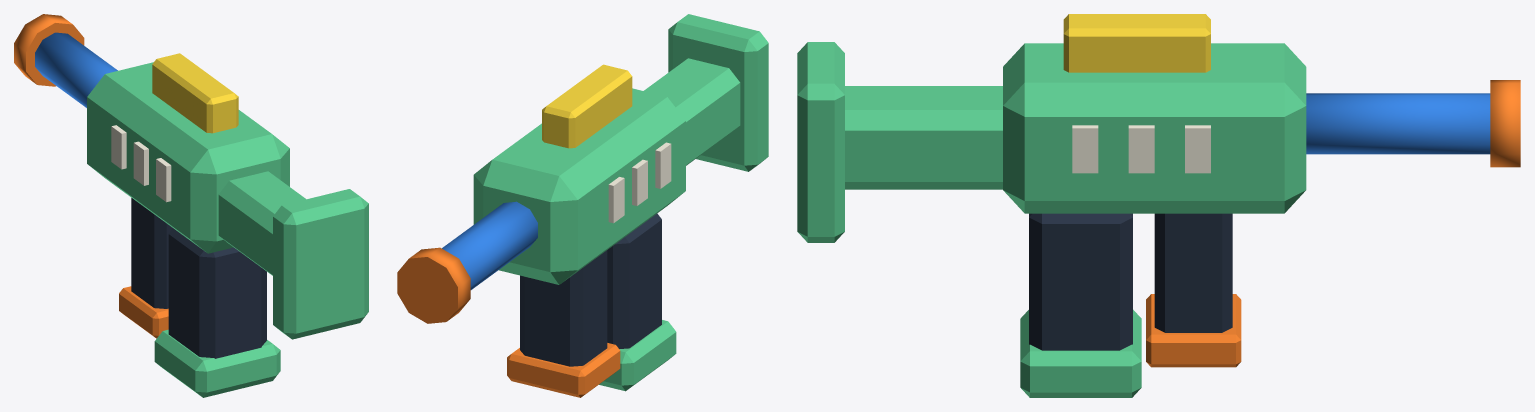
File: fps_w_burst.glb
The picture shows the model from 3 angles, left to right: view 1: azimuth 30°, elevation 25°; view 2: azimuth 150°, elevation 25°; view 3: azimuth 270°, elevation 25°; orthographic projection. The views are drawn at different scales.
Parts seen in each view (by area): view 1: detail_Apple, grip, Sight bridge, Small box magazine, Long thin barrel, muzzle_tip, detail_Vanilla plastic, Magazine base; view 2: detail_Apple, Small box magazine, grip, Sight bridge, Long thin barrel, muzzle_tip, Magazine base, detail_Vanilla plastic; view 3: detail_Apple, grip, Long thin barrel, Small box magazine, Sight bridge, Magazine base, detail_Vanilla plastic, muzzle_tip.
Boxes of the visible parts, x1=… form: detail_Apple: x1=87, y1=62, x2=368, y2=397; grip: x1=168, y1=228, x2=266, y2=358; Sight bridge: x1=152, y1=53, x2=238, y2=133; Small box magazine: x1=131, y1=198, x2=172, y2=308; Long thin barrel: x1=35, y1=32, x2=117, y2=107; muzzle_tip: x1=14, y1=14, x2=84, y2=86; detail_Vanilla plastic: x1=111, y1=125, x2=171, y2=202; Magazine base: x1=119, y1=286, x2=168, y2=338; detail_Apple: x1=473, y1=14, x2=768, y2=391; Small box magazine: x1=520, y1=250, x2=607, y2=366; grip: x1=607, y1=213, x2=661, y2=348; Sight bridge: x1=542, y1=64, x2=632, y2=148; Long thin barrel: x1=442, y1=201, x2=537, y2=289; muzzle_tip: x1=397, y1=247, x2=470, y2=323; Magazine base: x1=507, y1=343, x2=620, y2=397; detail_Vanilla plastic: x1=608, y1=142, x2=671, y2=223; detail_Apple: x1=797, y1=42, x2=1306, y2=397; grip: x1=1029, y1=213, x2=1132, y2=350; Long thin barrel: x1=1306, y1=93, x2=1490, y2=154; Small box magazine: x1=1154, y1=213, x2=1232, y2=332; Sight bridge: x1=1063, y1=14, x2=1210, y2=72; Magazine base: x1=1146, y1=294, x2=1241, y2=367; detail_Vanilla plastic: x1=1072, y1=125, x2=1210, y2=173; muzzle_tip: x1=1490, y1=80, x2=1520, y2=167.
Size of the model in its own units: 0.154 by 0.3795 by 0.7.
